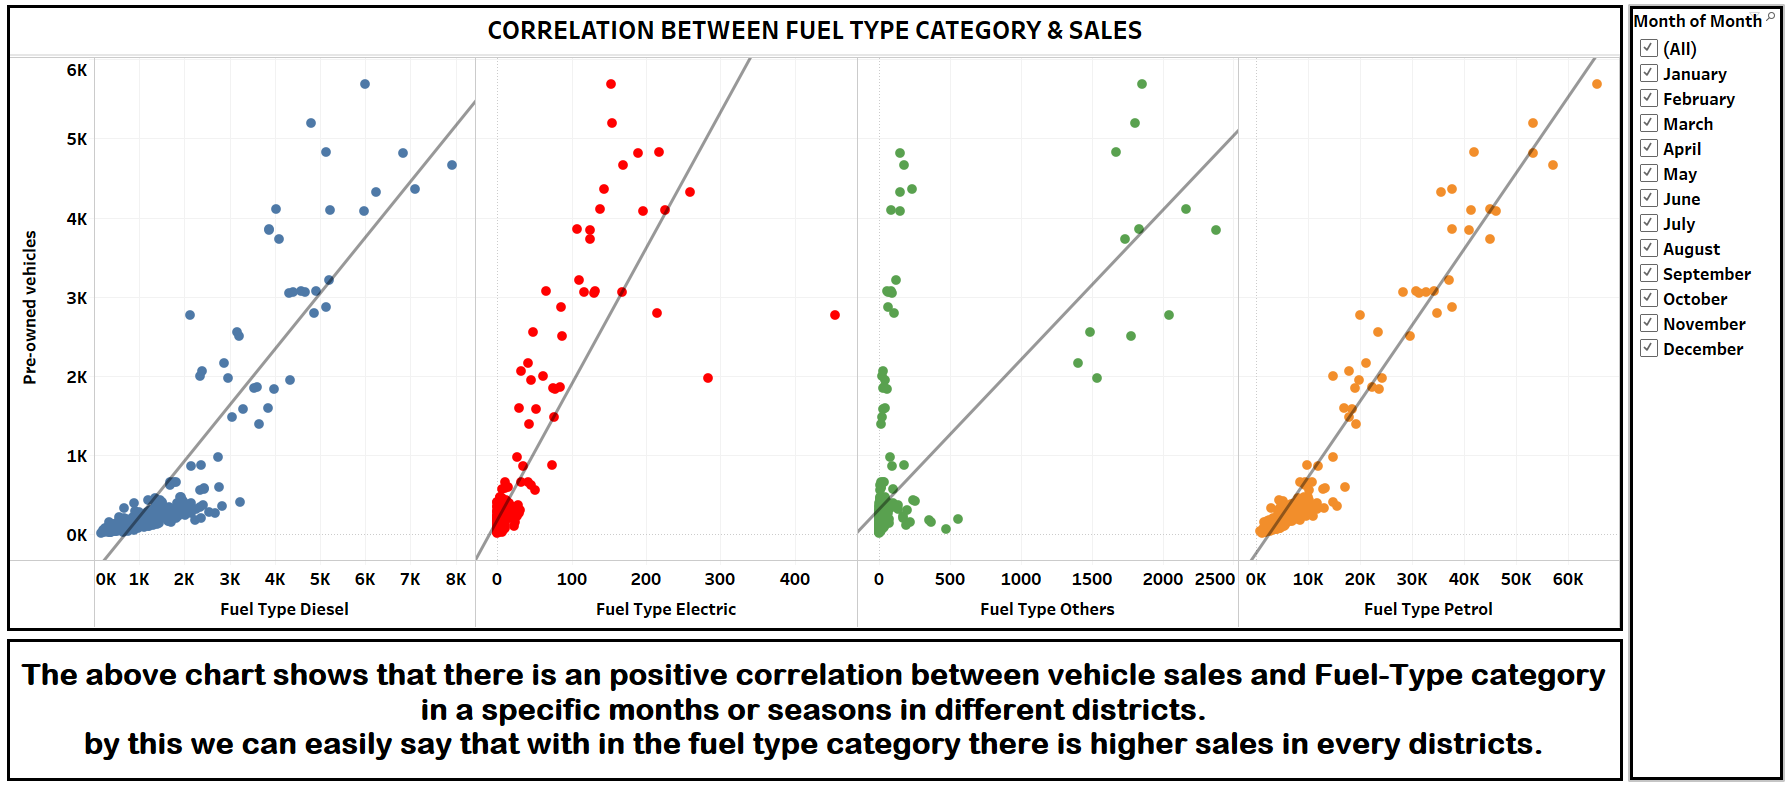

What the dashboard file says about the page in this screenshot:
{"tool":"tableau","page":{"name":"Dashboard 7","canvas":[1800,800],"ordinal":9},"visuals":[{"type":"worksheet","title":"CORRELATION BETWEEN FUEL TYPE CATEGORY & SALES","mark":"Automatic","rows":["Pre-owned_vehicles"],"cols":["fuel_type_diesel","fuel_type_electric","fuel_type_others","fuel_type_petrol"],"box":[8,8,1624,634]},{"type":"filter","title":"CORRELATION BETWEEN FUEL TYPE CATEGORY & SALES","param":"[federated.0o7fg4m1dvu29t17ewmwn1jh5kk7].[mn:month:ok]","box":[1635,13,153,774]},{"type":"blank","box":[8,642,1624,150]},{"type":"text","box":[18,653,1601,126]}]}

Visuals, with their boxes in screenshot pixels (x1, y1, x2, y2), scaled from the page's 1800x800 canvas onto the 1788x787 screenshot:
"CORRELATION BETWEEN FUEL TYPE CATEGORY & SALES" worksheet: bbox(8, 8, 1621, 632)
"CORRELATION BETWEEN FUEL TYPE CATEGORY & SALES" filter: bbox(1624, 13, 1776, 774)
blank: bbox(8, 632, 1621, 779)
text: bbox(18, 642, 1608, 766)
